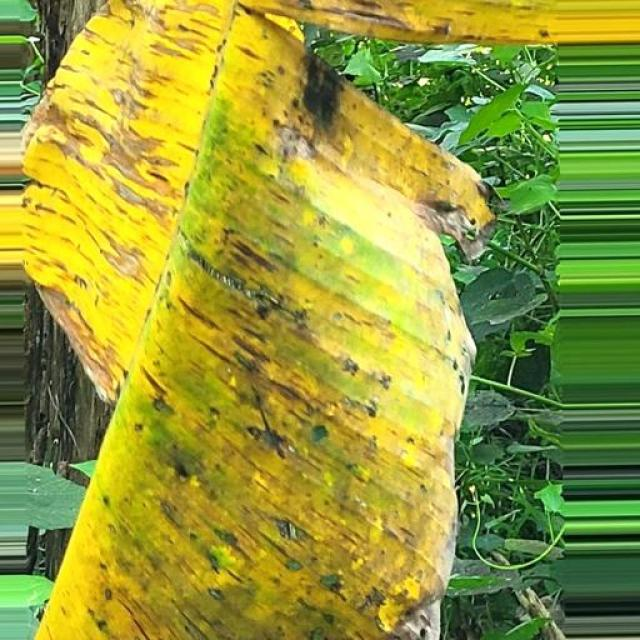Cordana: (4, 0, 634, 640)
